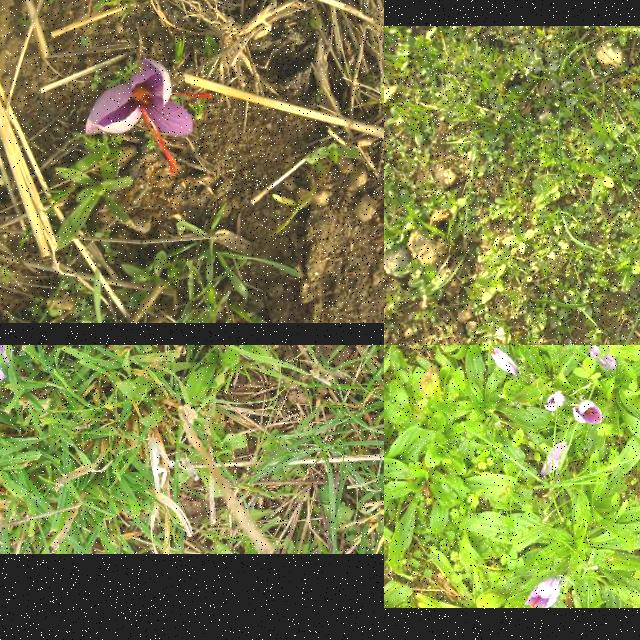flower: (85, 58, 212, 174), (525, 578, 563, 608), (490, 348, 520, 377), (572, 400, 604, 426), (544, 392, 566, 412)
